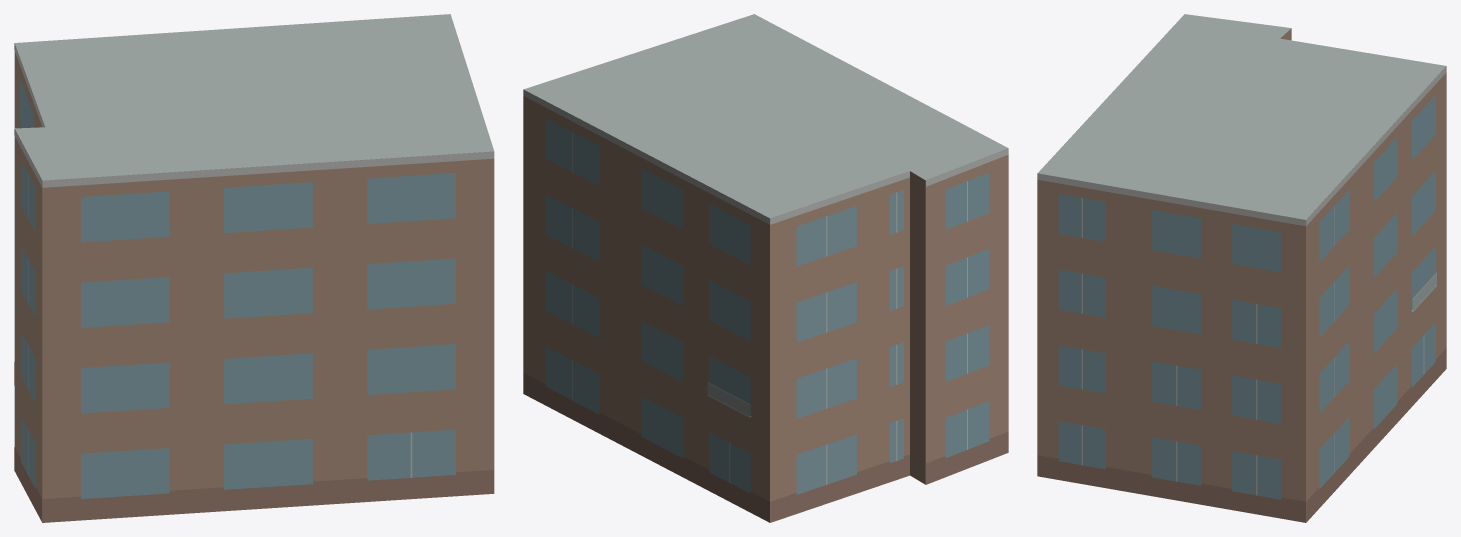
File: survey-upis-32998402.glb
3 renders of one model, left to right at view 1: azimuth 30°, elevation 25°; view 2: azimuth 150°, elevation 25°; view 3: azimuth 270°, elevation 25°, orthographic. The views are drawn at different scales.
Visible parts, largest first — view 1: survey-upis-32998402.tmp; view 2: survey-upis-32998402.tmp; view 3: survey-upis-32998402.tmp.
Part boxes in pixels (bbox=[...]): survey-upis-32998402.tmp: bbox=[14, 14, 494, 522]; survey-upis-32998402.tmp: bbox=[523, 14, 1008, 522]; survey-upis-32998402.tmp: bbox=[1037, 14, 1446, 522].
Size of the model in its own units: 16.92 by 11.6 by 14.21.
